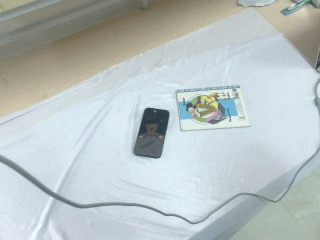book: (175, 85, 251, 132)
phone: (133, 107, 170, 158)
